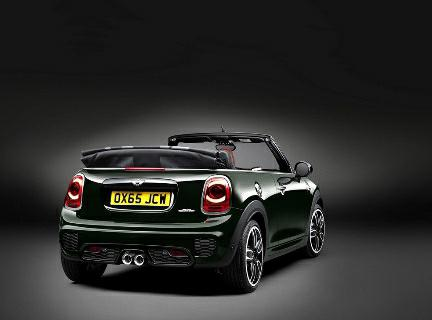MINI-JCW: (58, 123, 328, 292)
